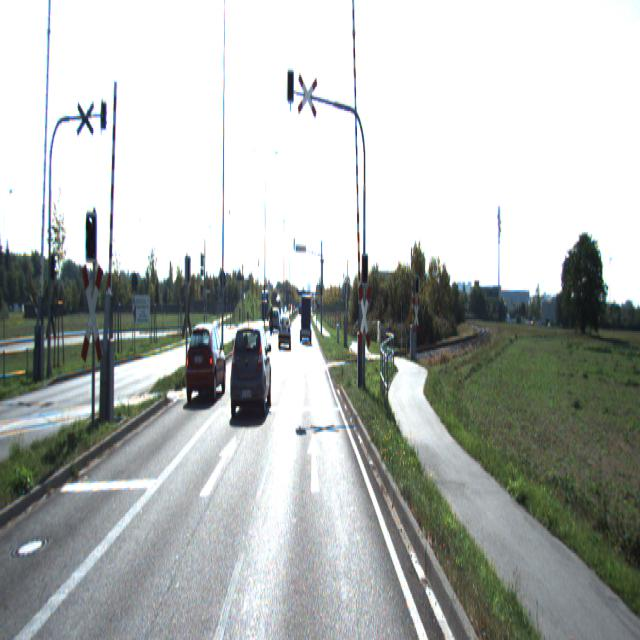Car: (229, 313, 273, 421), (184, 320, 227, 402), (300, 294, 312, 342), (278, 315, 292, 347), (272, 309, 279, 333)
